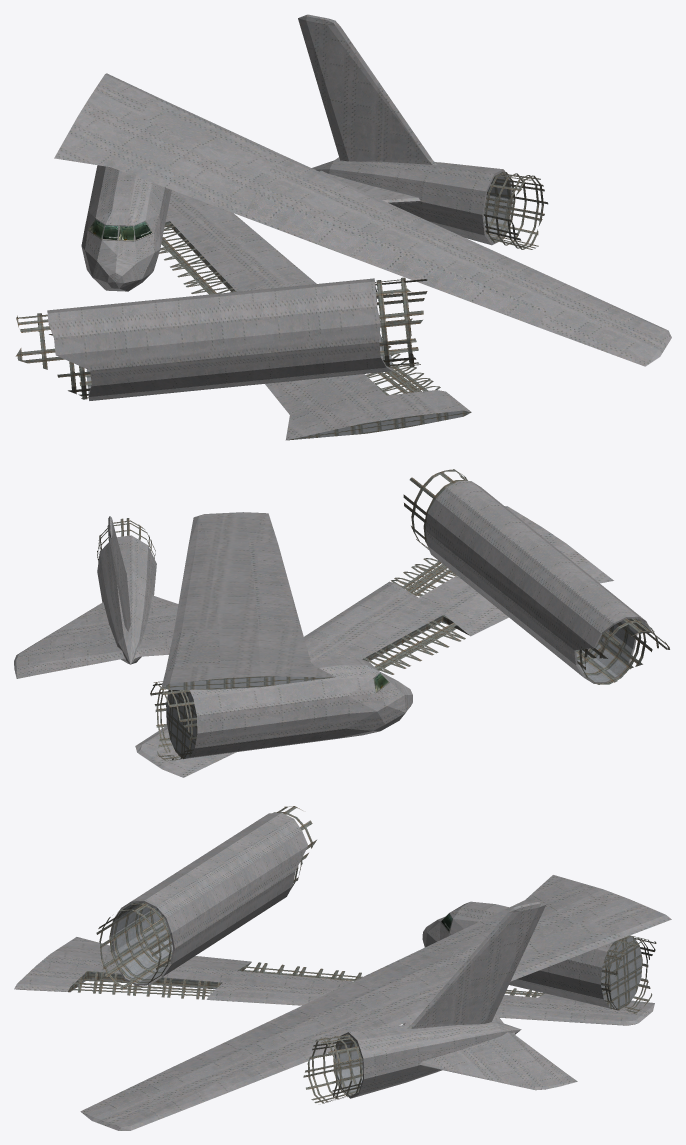
File: bonyrd_block1_.obj
The picture shows the model from 3 angles, top to bottom: view 1: azimuth 30°, elevation 25°; view 2: azimuth 150°, elevation 25°; view 3: azimuth 270°, elevation 25°; orthographic projection. The views are drawn at different scales.
Parts seen in each view (by area): view 1: bonyrd_block1_; view 2: bonyrd_block1_; view 3: bonyrd_block1_.
Part boxes in pixels (box(x1,y1,x2,y2)): bonyrd_block1_: box(15, 14, 671, 440); bonyrd_block1_: box(14, 469, 669, 777); bonyrd_block1_: box(14, 806, 671, 1130).
Size of the model in its own units: 30.71 by 9.67 by 33.26.
6 materials, 6 textured.
